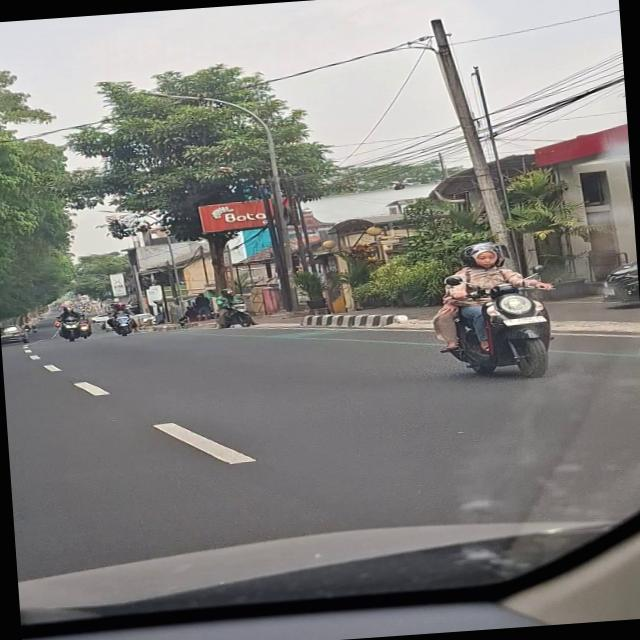WithHelmet: (427, 237, 559, 357), (213, 286, 254, 329), (53, 304, 91, 340), (102, 302, 132, 331)
